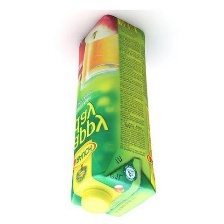carton: (68, 12, 157, 220)
